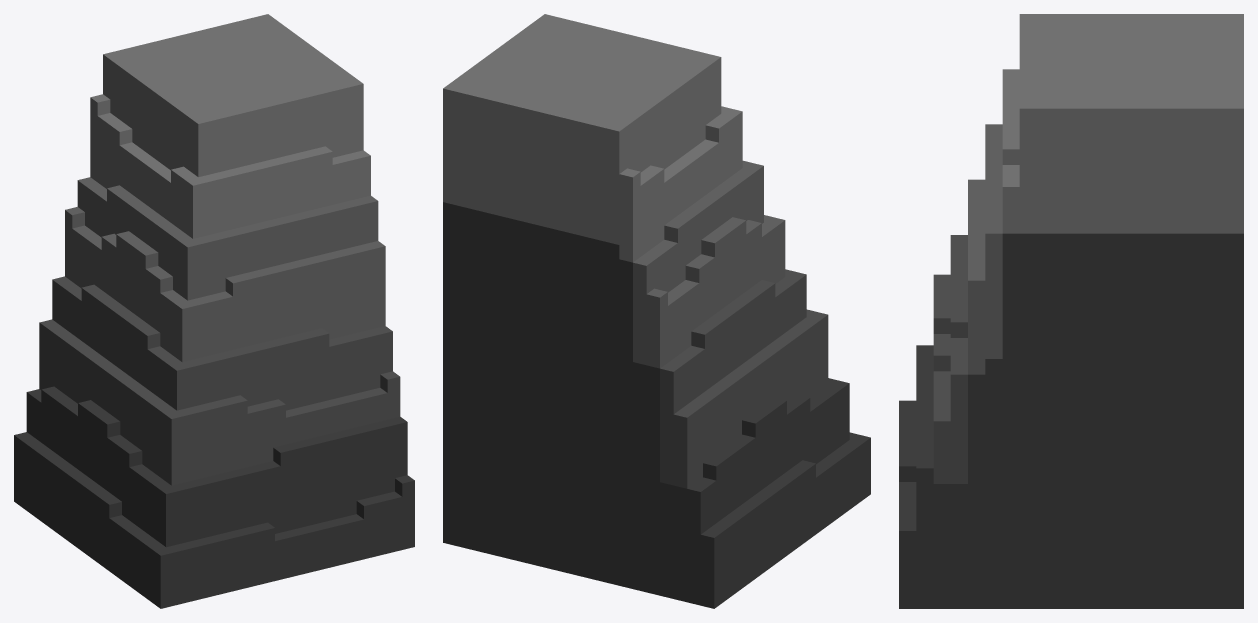
The model's file is mountain-edge-outer-4.gltf.
3 renders of one model, left to right at view 1: azimuth 30°, elevation 25°; view 2: azimuth 150°, elevation 25°; view 3: azimuth 270°, elevation 25°, orthographic. The views are drawn at different scales.
Parts seen in each view (by area): view 1: mountain-edge-outer-4; view 2: mountain-edge-outer-4; view 3: mountain-edge-outer-4.
Part boxes in pixels (x1,y1,x2,y2): mountain-edge-outer-4: (14,14,414,608); mountain-edge-outer-4: (443,14,870,608); mountain-edge-outer-4: (899,14,1243,608).
Bounding box in the file's own units: 2 × 3.2 × 2.
Materials: 1 (1 with a texture image).
